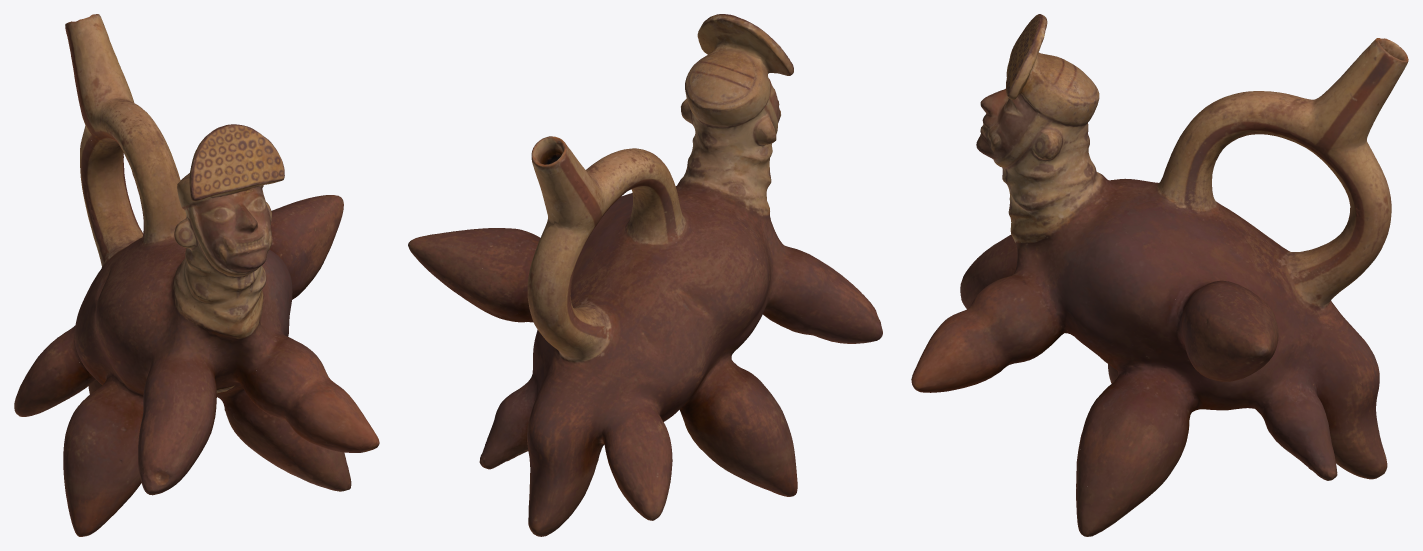
File: met_bottle.glb
The picture shows the model from 3 angles, left to right: view 1: azimuth 30°, elevation 25°; view 2: azimuth 150°, elevation 25°; view 3: azimuth 270°, elevation 25°; orthographic projection. The views are drawn at different scales.
Parts seen in each view (by area): view 1: ADVIMG_64_228_57_StirrupSproutBottle_MASTER_001_n3d; view 2: ADVIMG_64_228_57_StirrupSproutBottle_MASTER_001_n3d; view 3: ADVIMG_64_228_57_StirrupSproutBottle_MASTER_001_n3d.
Part boxes in pixels (left/top/right/bottom): ADVIMG_64_228_57_StirrupSproutBottle_MASTER_001_n3d: left=14, top=14, right=379, bottom=536; ADVIMG_64_228_57_StirrupSproutBottle_MASTER_001_n3d: left=408, top=14, right=882, bottom=536; ADVIMG_64_228_57_StirrupSproutBottle_MASTER_001_n3d: left=911, top=14, right=1408, bottom=536.
Size of the model in its own units: 0.2347 by 0.2814 by 0.2826.
1 material, 1 textured.
